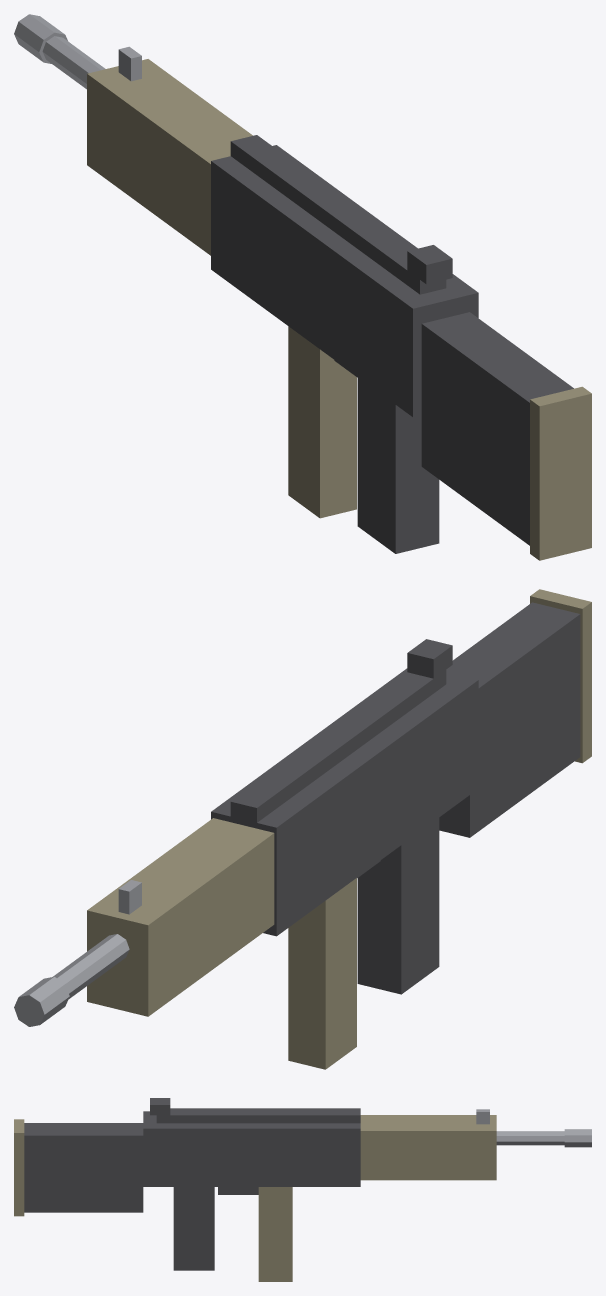
The model's file is rifle.glb.
The picture shows the model from 3 angles, top to bottom: view 1: azimuth 30°, elevation 25°; view 2: azimuth 150°, elevation 25°; view 3: azimuth 270°, elevation 25°; orthographic projection. The views are drawn at different scales.
Visible parts, largest first — view 1: Rifle; view 2: Rifle; view 3: Rifle.
Part boxes in pixels (x1,y1,x2,y2): Rifle: (14, 14, 591, 560); Rifle: (14, 589, 591, 1069); Rifle: (14, 1098, 591, 1281).
Size of the model in its own units: 0.06 by 0.285 by 0.85.
